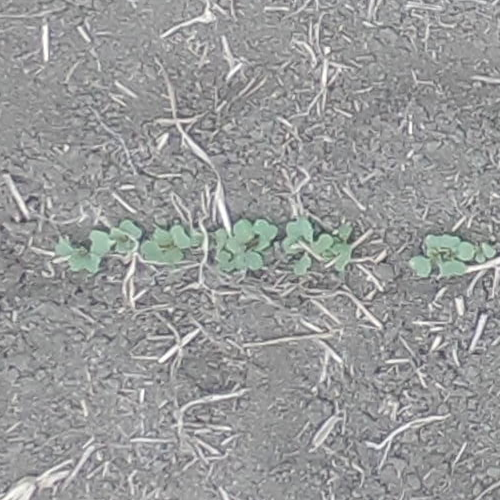clumped: (56, 219, 192, 271), (281, 215, 359, 280), (409, 235, 499, 279)
isolated: (210, 219, 257, 245), (218, 248, 265, 273), (253, 220, 278, 242)
